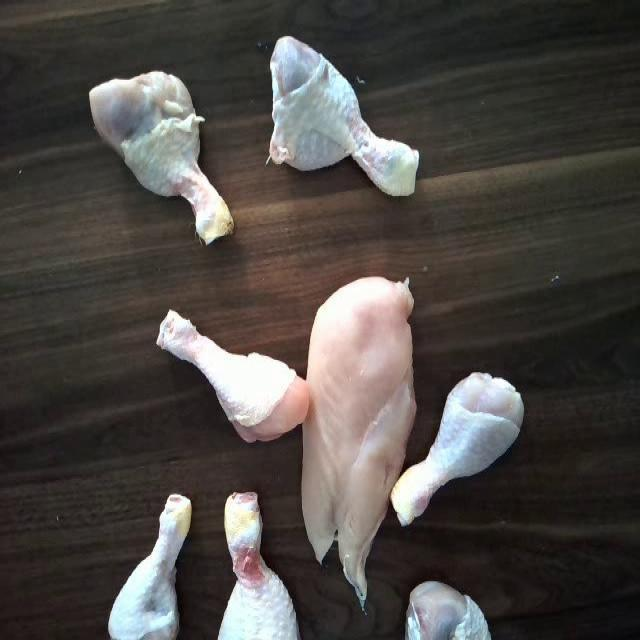breast: (300, 264, 422, 592)
leg: (267, 32, 425, 215), (84, 63, 236, 243), (390, 366, 522, 534), (158, 308, 308, 446), (106, 487, 198, 640), (213, 491, 297, 640), (395, 576, 493, 640)
